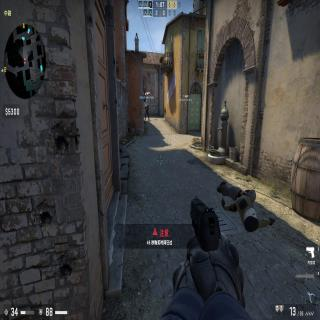CT-Body: (144, 103, 150, 121)
